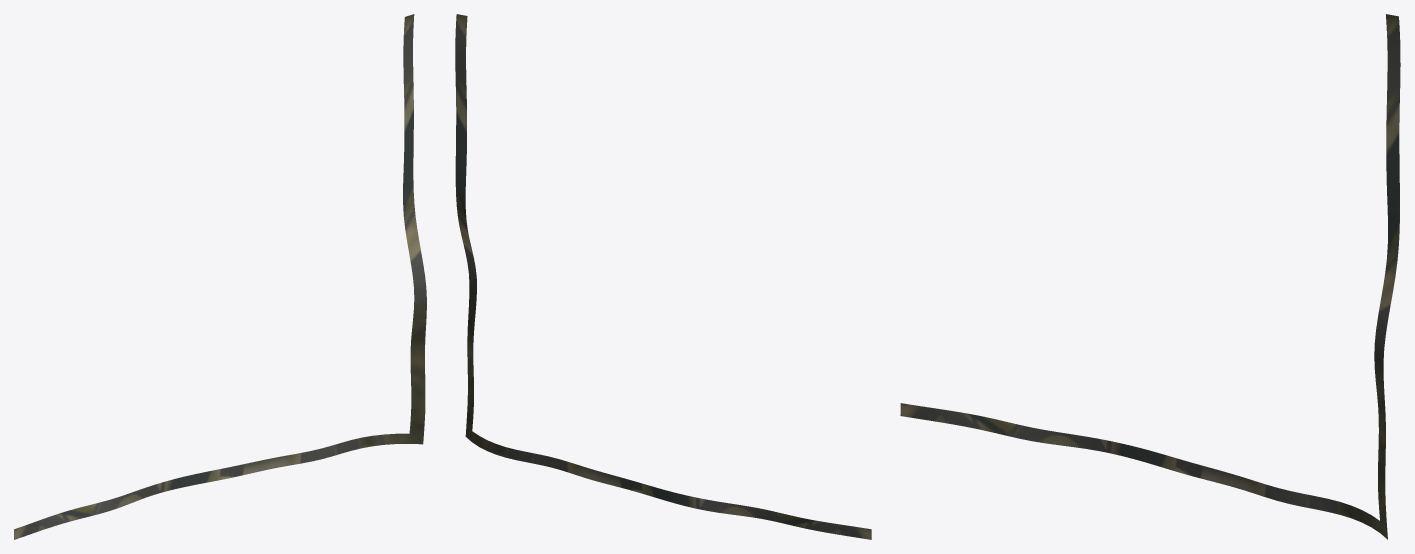
File: ground_mid_05_04.obj
The picture shows the model from 3 angles, left to right: view 1: azimuth 30°, elevation 25°; view 2: azimuth 150°, elevation 25°; view 3: azimuth 330°, elevation 25°; orthographic projection. The views are drawn at different scales.
Visible parts, largest first — view 1: ground_mid_05_04; view 2: ground_mid_05_04; view 3: ground_mid_05_04.
Boxes of the visible parts, x1,y1,x2,y2 form: ground_mid_05_04: (14, 14, 426, 539); ground_mid_05_04: (455, 14, 871, 539); ground_mid_05_04: (900, 14, 1400, 539).
Size of the model in its own units: 200 by 200 by 16.83.
1 material, 1 textured.
